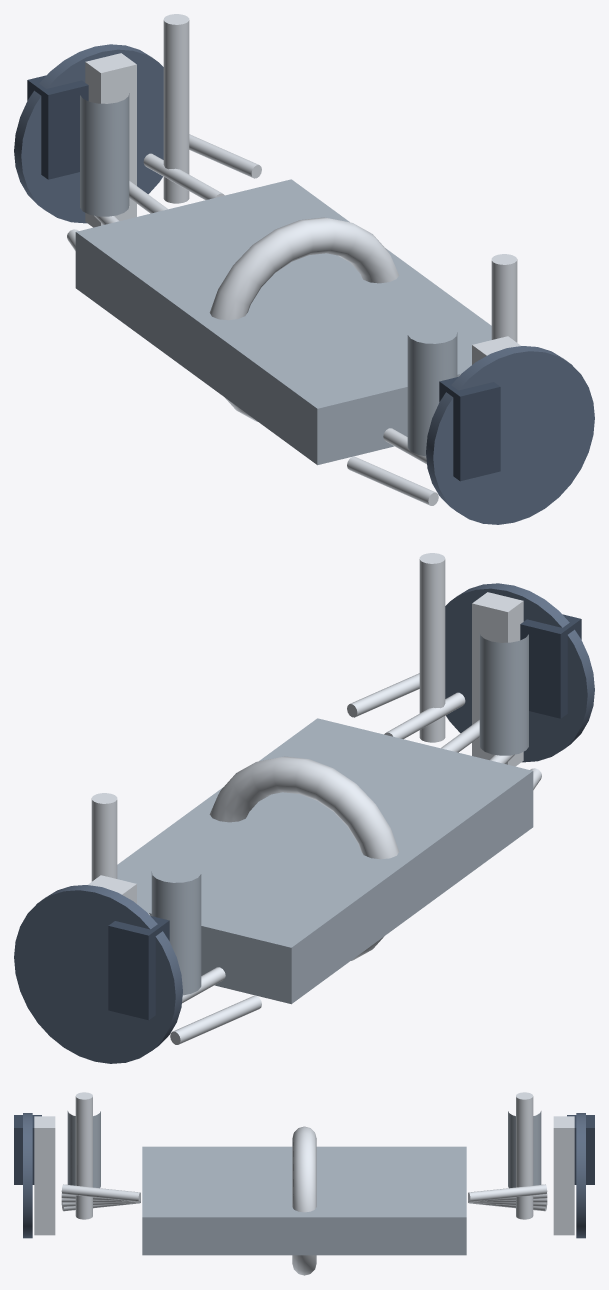
Rendered from rear_subframe.glb.
3 renders of one model, top to bottom at view 1: azimuth 30°, elevation 25°; view 2: azimuth 150°, elevation 25°; view 3: azimuth 270°, elevation 25°, orthographic. The views are drawn at different scales.
Parts seen in each view (by area): view 1: Rear_Subframe_Carrier, Rear_5Link_Suspension; view 2: Rear_Subframe_Carrier, Rear_5Link_Suspension; view 3: Rear_Subframe_Carrier, Rear_5Link_Suspension.
Part boxes in pixels (x1,y1,x2,y2): Rear_Subframe_Carrier: (75, 179, 491, 465); Rear_5Link_Suspension: (14, 14, 594, 524); Rear_Subframe_Carrier: (117, 718, 533, 1004); Rear_5Link_Suspension: (14, 553, 594, 1063); Rear_Subframe_Carrier: (142, 1126, 466, 1275); Rear_5Link_Suspension: (14, 1092, 594, 1238).
Size of the model in its own units: 0.48 by 0.585 by 1.67.
